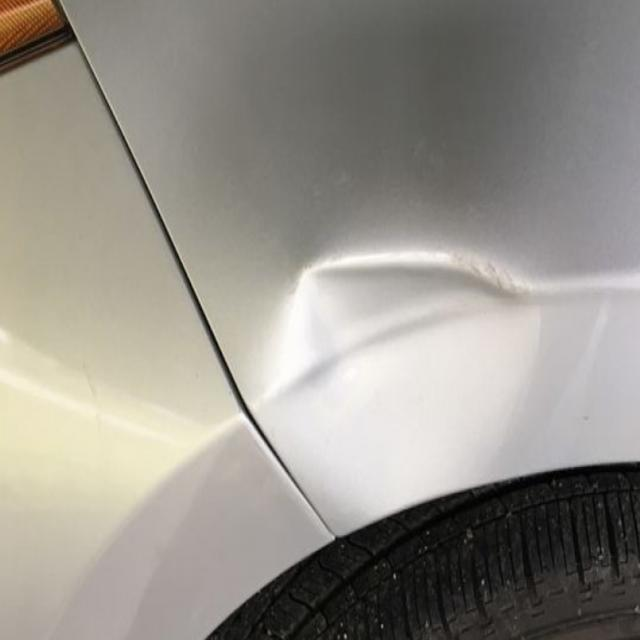dents: (254, 196, 554, 369)
